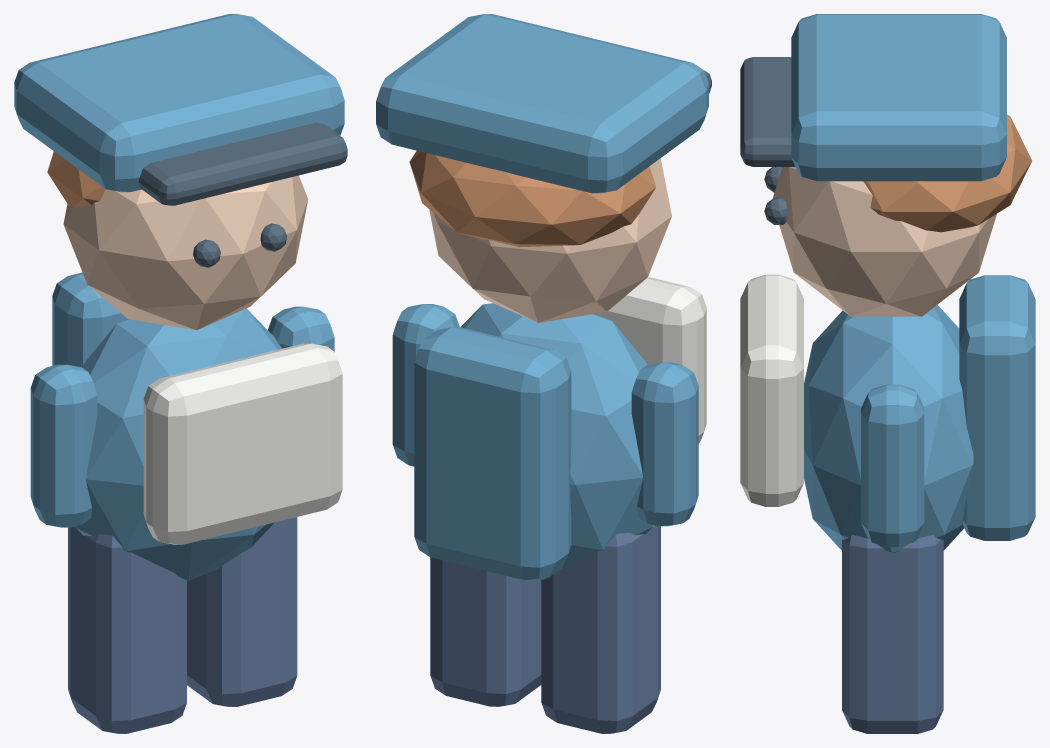
Rendered from trainer.glb.
The picture shows the model from 3 angles, left to right: view 1: azimuth 30°, elevation 25°; view 2: azimuth 150°, elevation 25°; view 3: azimuth 270°, elevation 25°; orthographic projection.
Visible parts, largest first — view 1: cap, shirt, head, body, legL, legR, armL, visor, backpack, armR, hair, eyeL (+1 smaller); view 2: cap, backpack, legL, body, head, legR, hair, armL, shirt, armR; view 3: cap, body, head, legR, backpack, shirt, armR, hair, visor, eyeR.
Boxes of the visible parts, box(x1,y1,x2,y2) form: cap: box(14, 14, 344, 192); shirt: box(143, 343, 342, 544); head: box(63, 175, 308, 330); body: box(75, 308, 281, 580); legL: box(68, 526, 186, 733); legR: box(187, 517, 297, 706); armL: box(30, 364, 97, 527); visor: box(138, 122, 347, 205); backpack: box(52, 272, 127, 367); armR: box(268, 306, 334, 352); hair: box(47, 151, 105, 206); eyeL: box(193, 239, 220, 267); cap: box(376, 14, 708, 193); backpack: box(414, 327, 571, 580); legL: box(541, 525, 660, 733); body: box(461, 303, 653, 579); head: box(429, 158, 671, 322); legR: box(430, 557, 541, 706); hair: box(409, 150, 656, 247); armL: box(631, 362, 698, 526); shirt: box(594, 277, 706, 443); armR: box(392, 304, 459, 466); cap: box(791, 14, 1006, 181); body: box(804, 305, 973, 553); head: box(772, 167, 996, 316); legR: box(842, 535, 943, 733); backpack: box(959, 275, 1035, 540); shirt: box(740, 274, 803, 506); armR: box(861, 384, 924, 546); hair: box(863, 114, 1031, 232); visor: box(740, 57, 795, 166); eyeR: box(764, 198, 787, 224).
Bounding box in the file's own units: 1.06 × 2.2 × 0.93.
